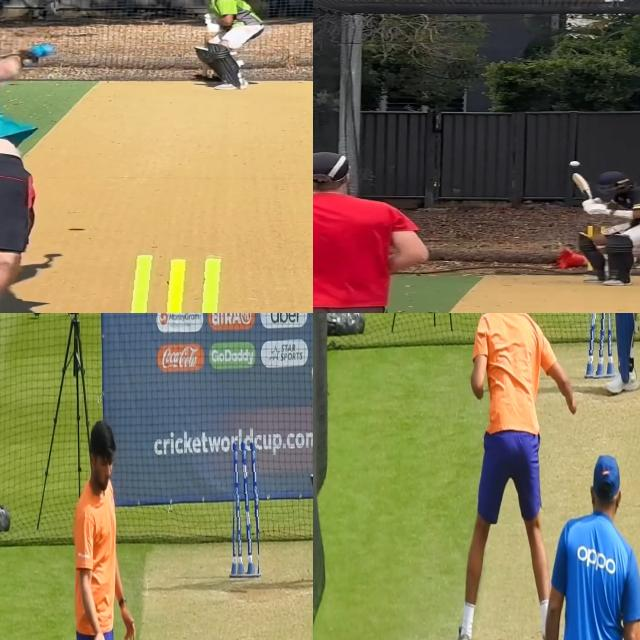Cricket ball: (570, 162, 580, 168)
Stumps: (120, 253, 238, 313), (230, 438, 259, 582), (587, 313, 614, 378)
